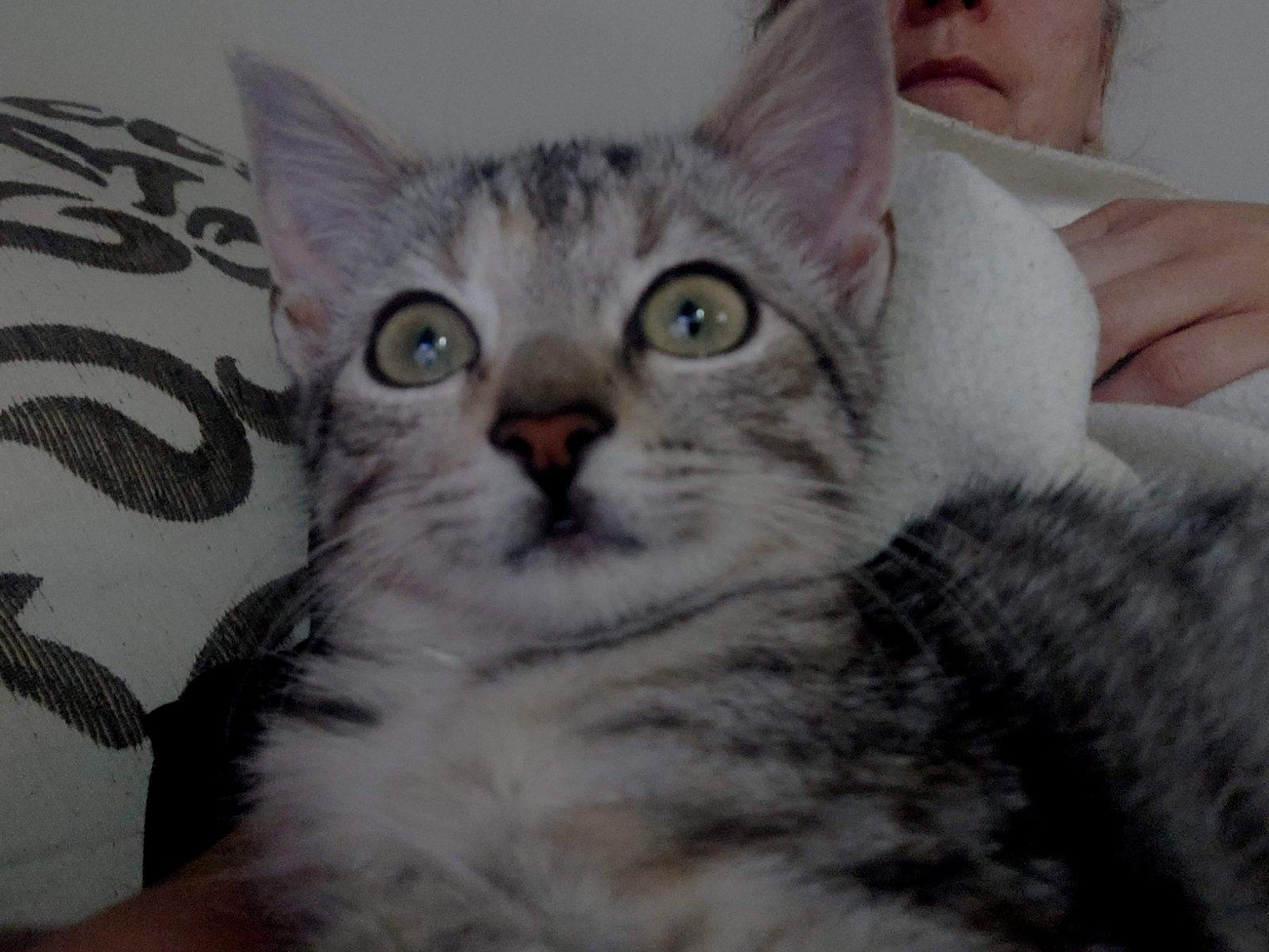macka: (226, 0, 1269, 951)
